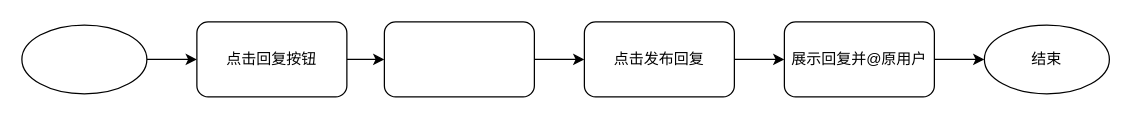
Some shapes in this 1131 by 119 pixel diagram are drawn without their labels. The centre of each missing label's shape, as x and y in pixels:
"开始" belongs at point (84, 59).
"输入回复内容" belongs at point (458, 59).
